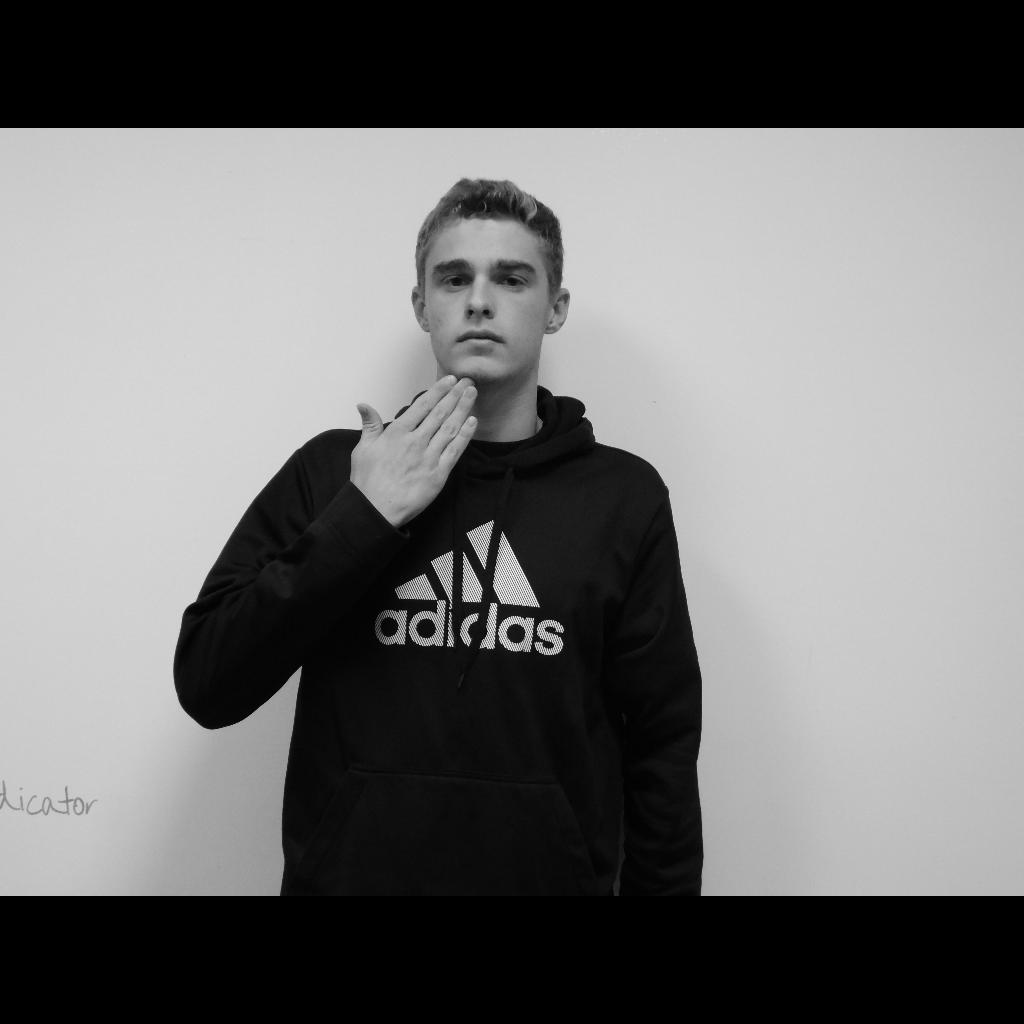thank-you: (352, 376, 478, 516)
